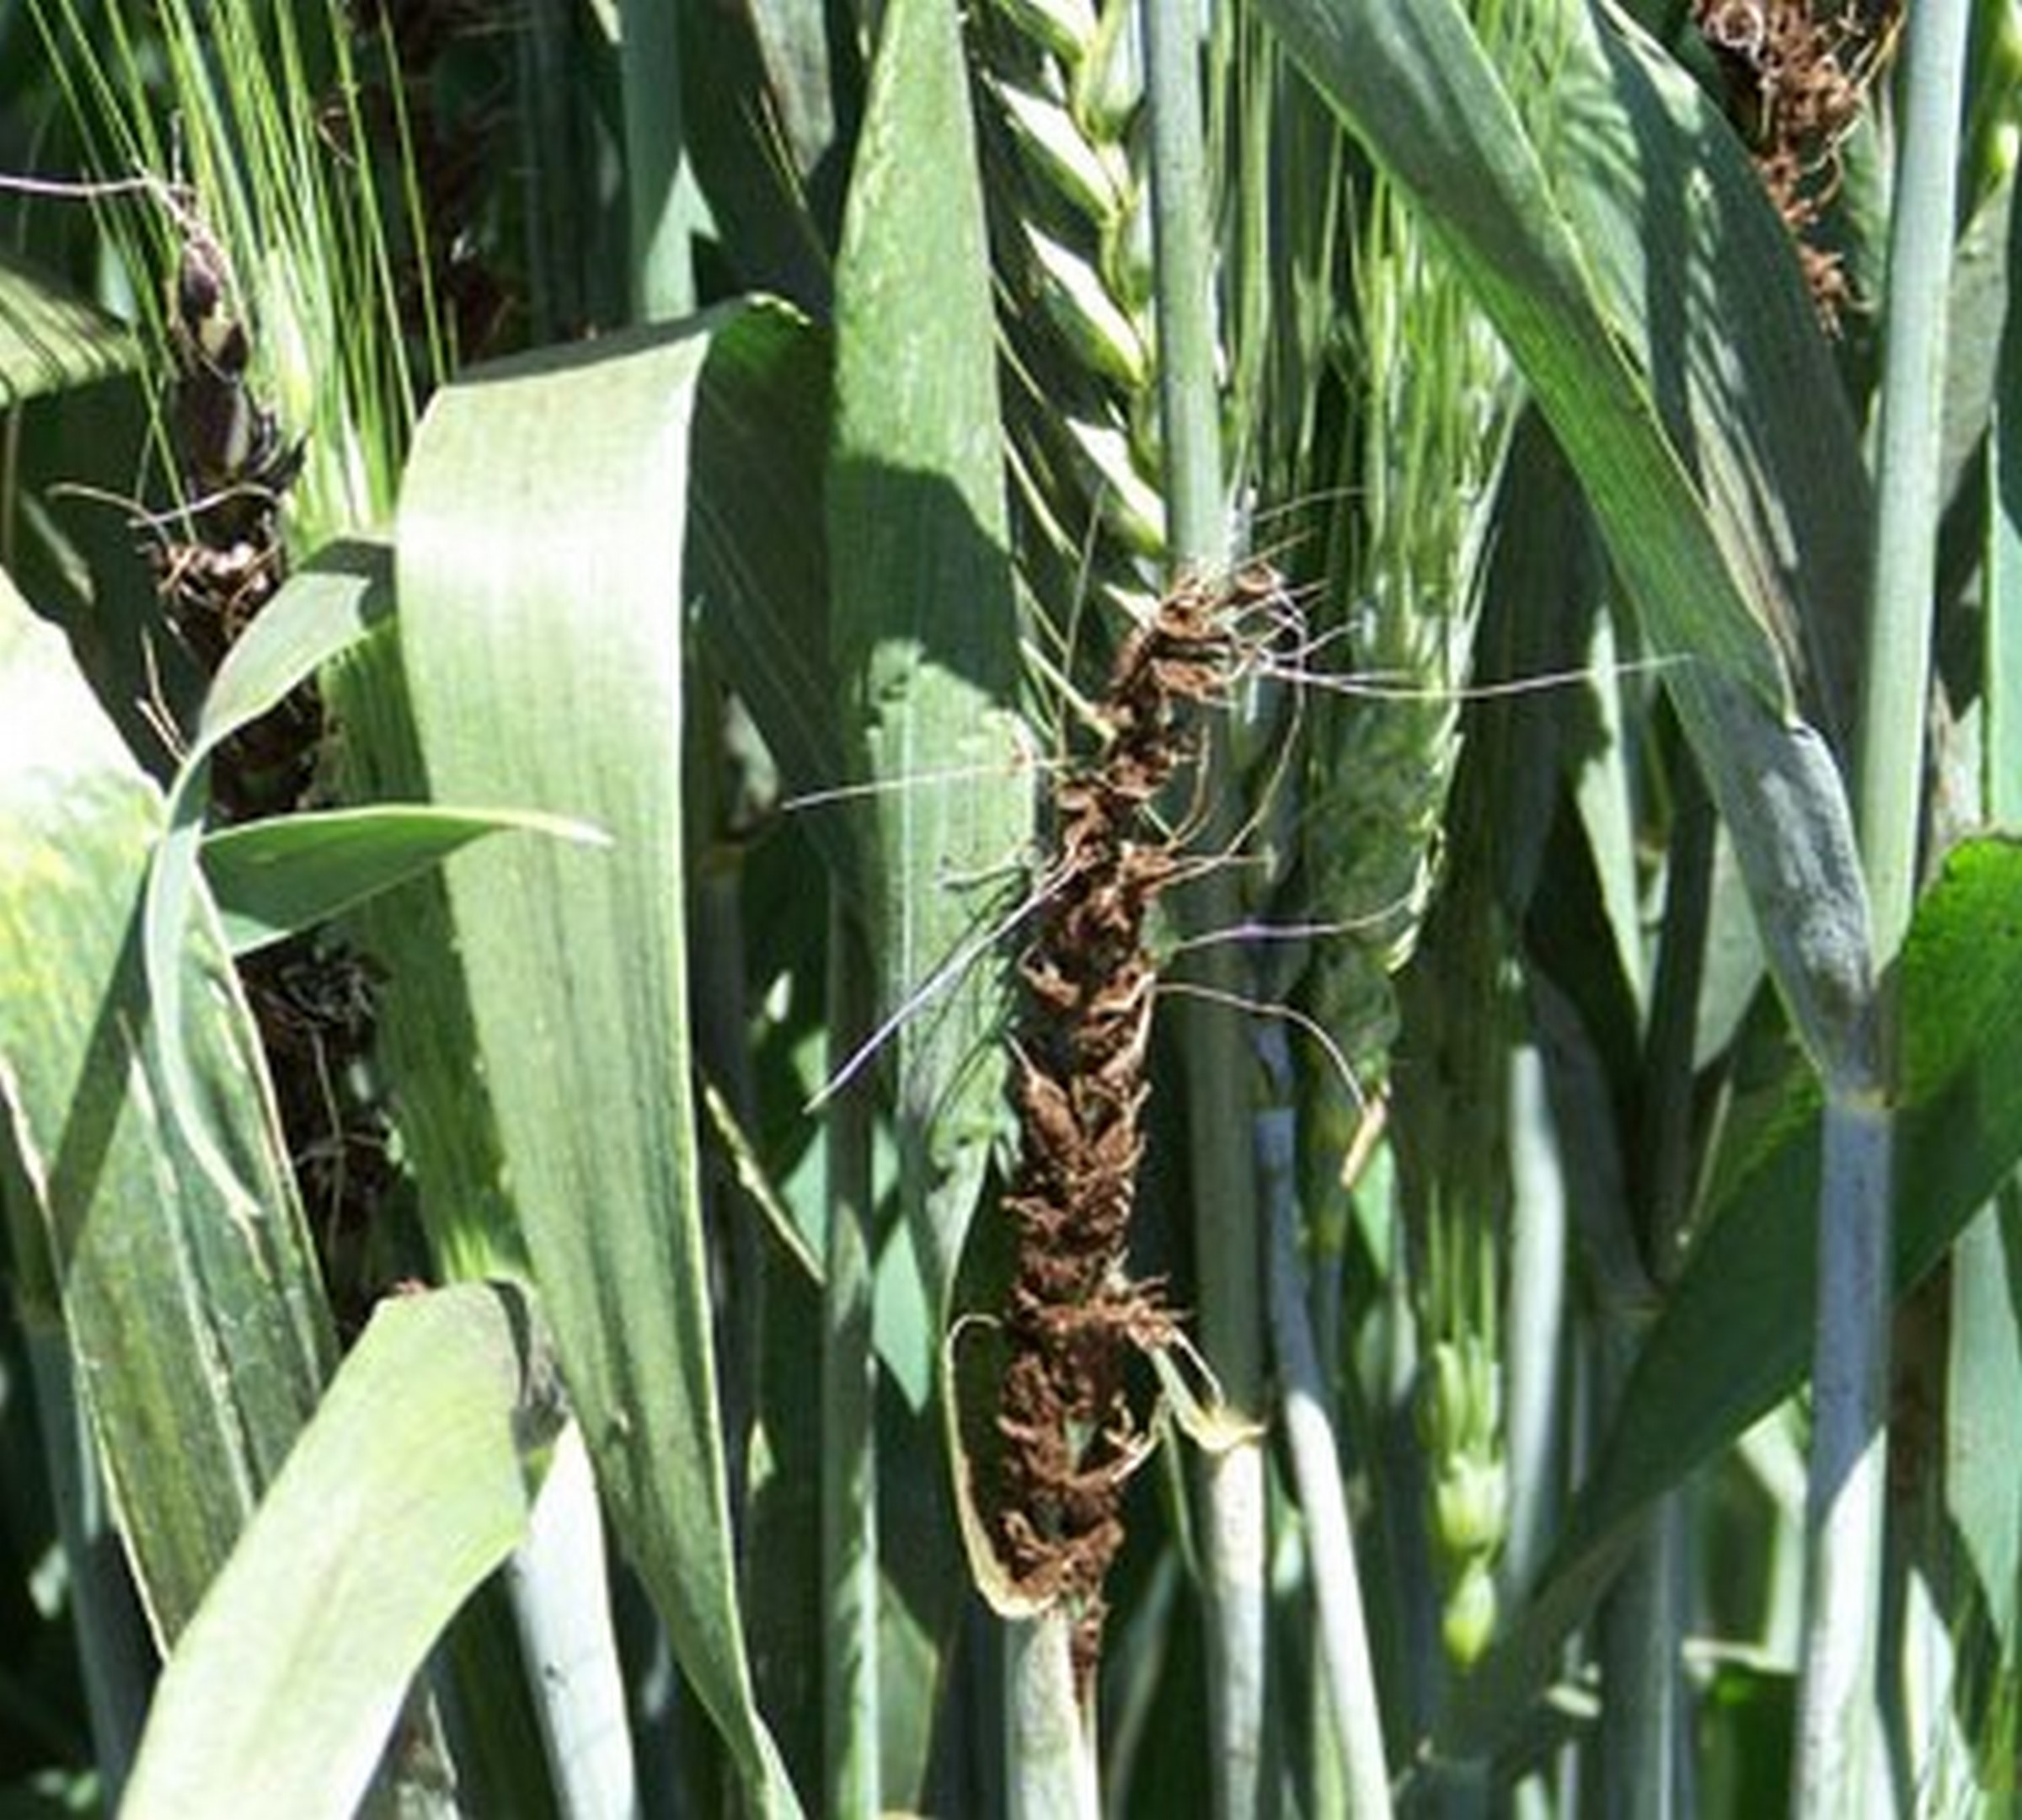Wheat Loose Smut: (928, 560, 1267, 1607)
